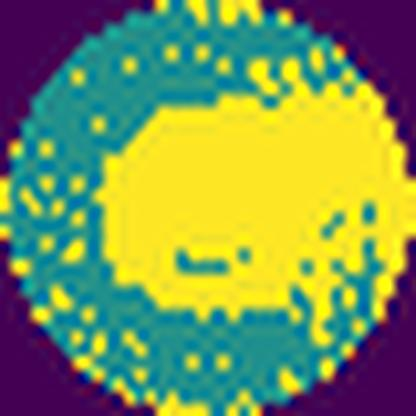Edge-Loc: (101, 58, 416, 345)
